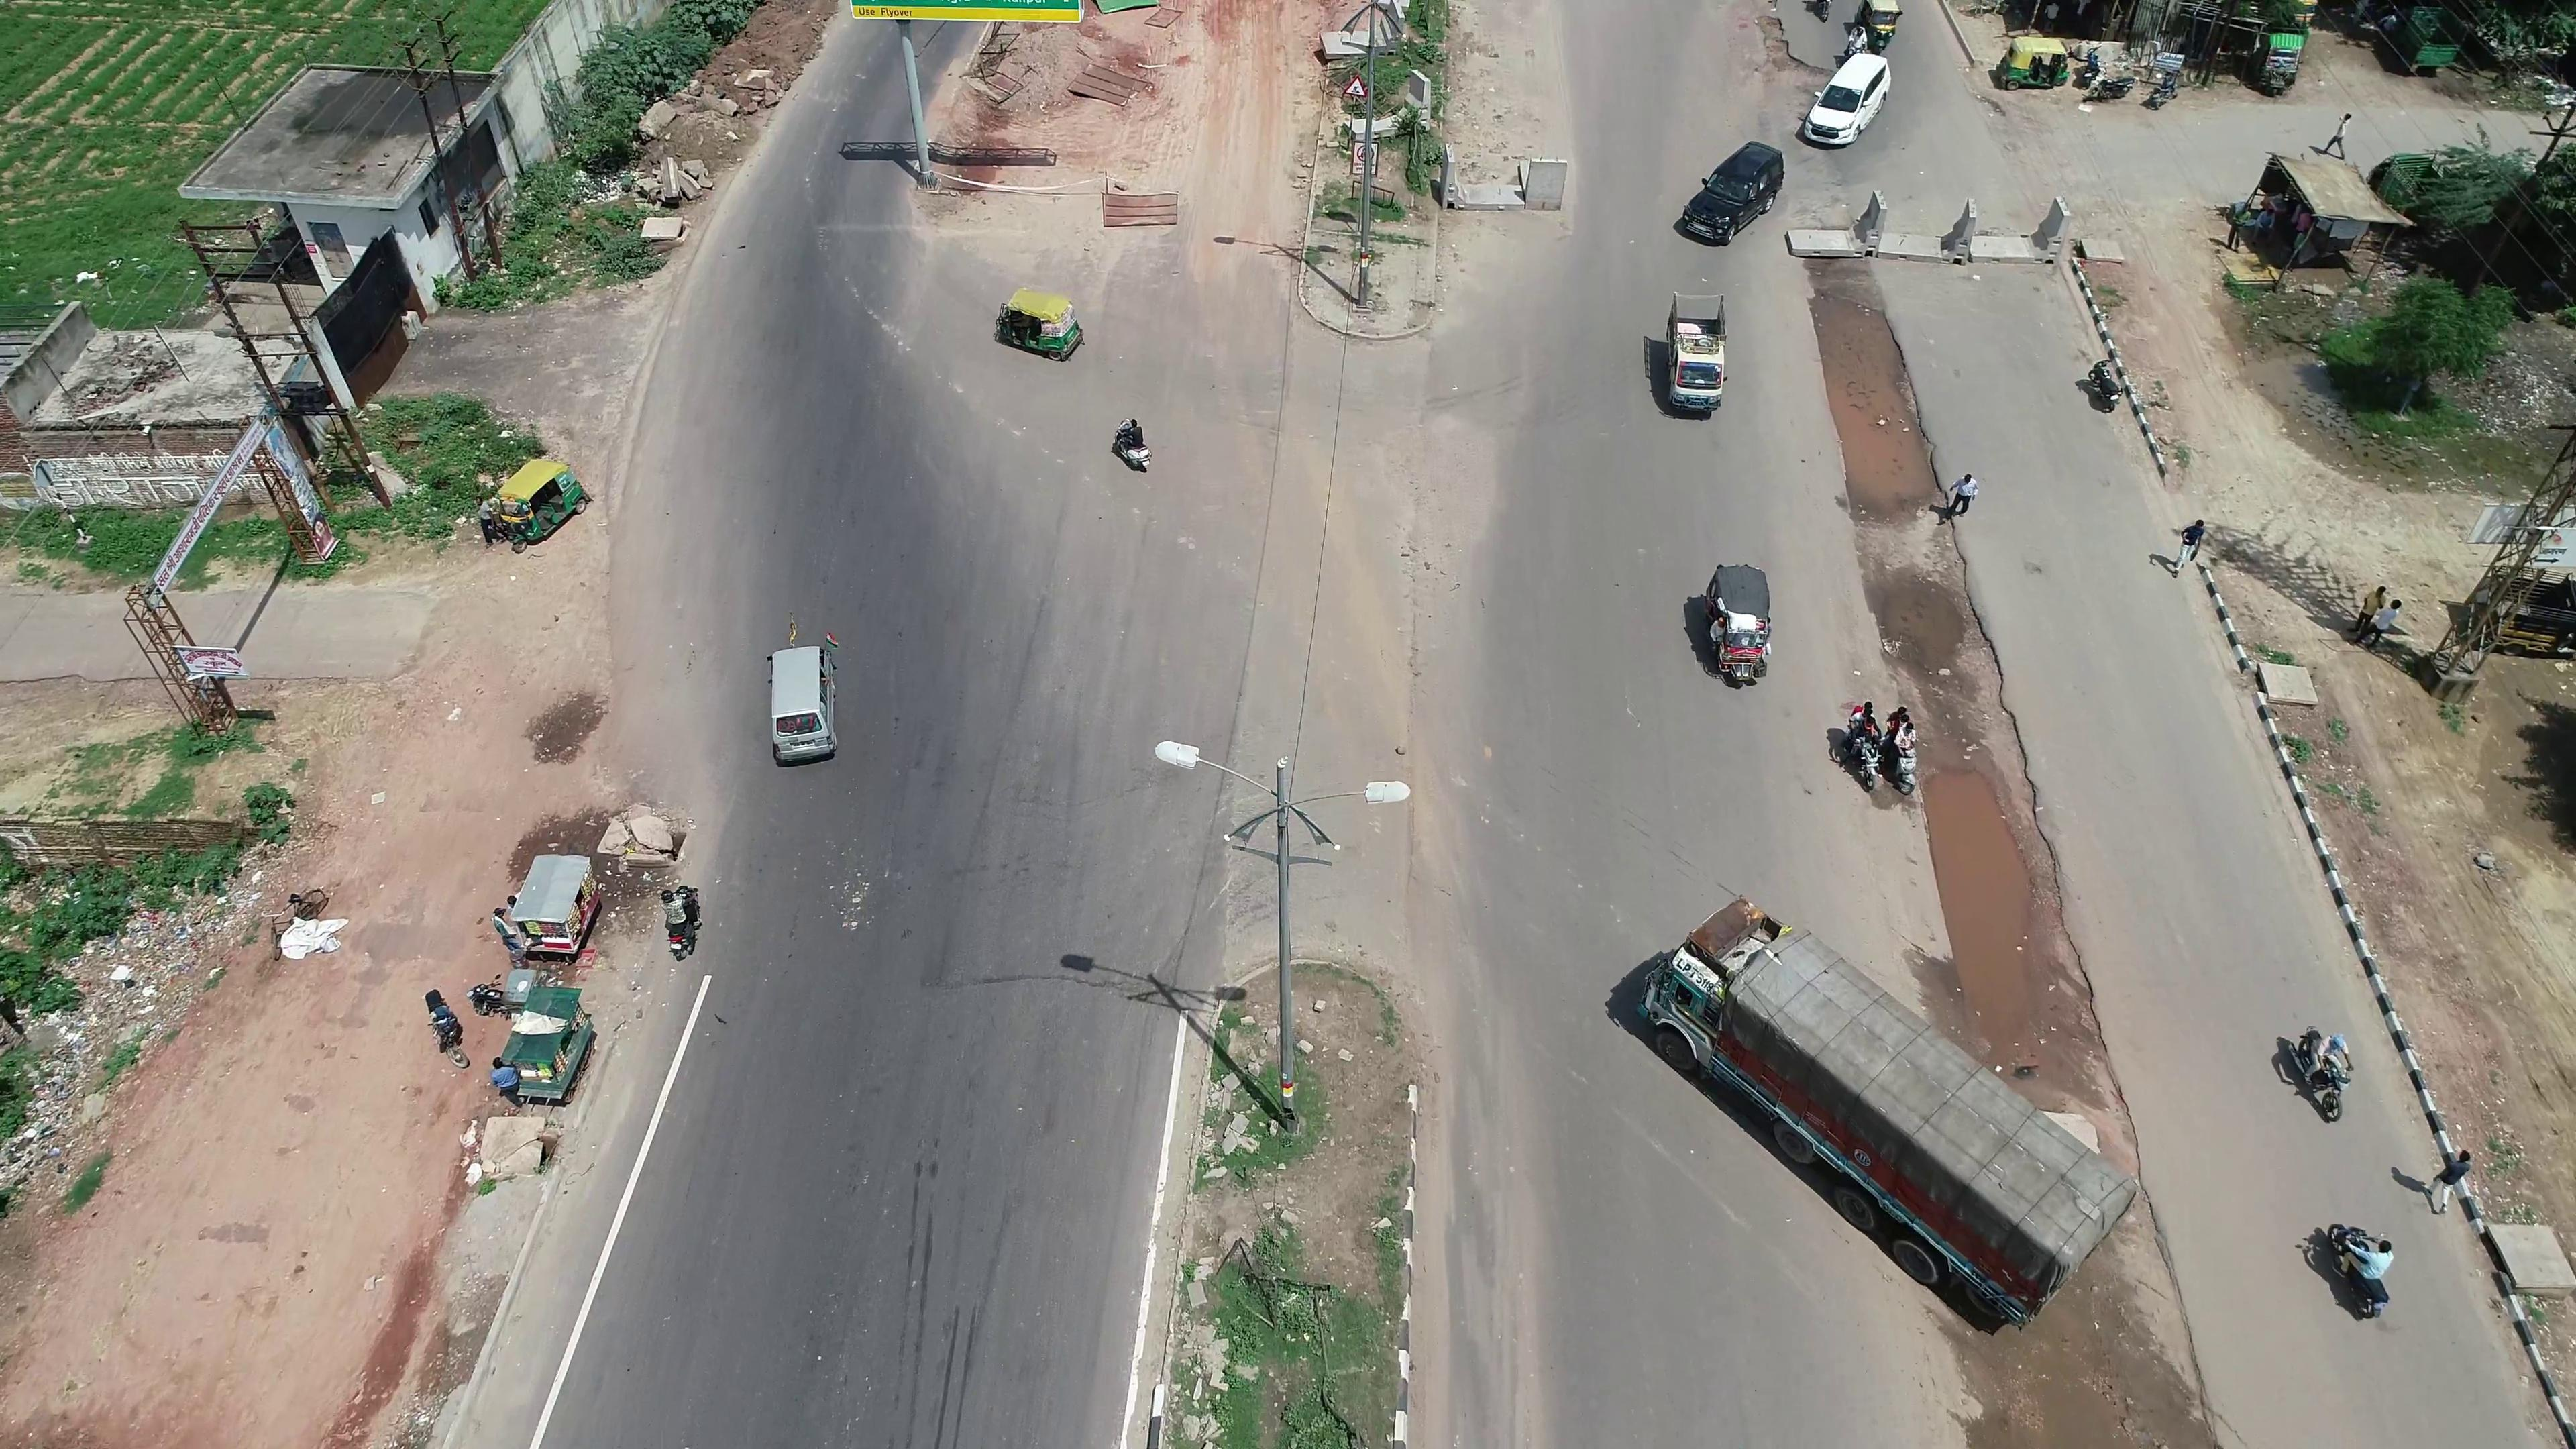Waterlogging: (1921, 763, 2045, 1065)
